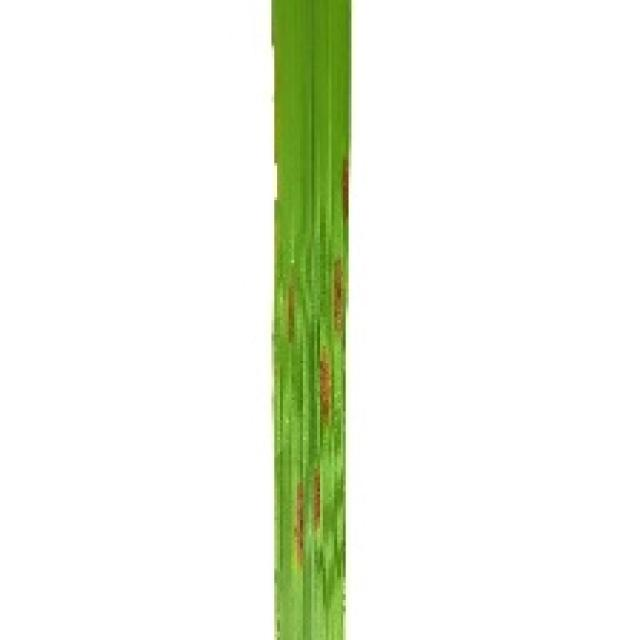Unhealthy: (316, 355, 328, 435), (293, 478, 304, 564), (340, 150, 349, 245), (331, 257, 341, 331), (310, 475, 322, 532), (286, 287, 298, 341)
